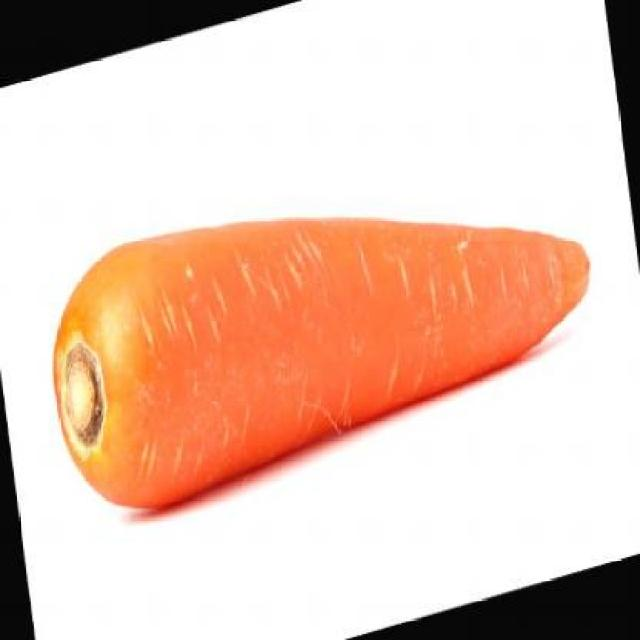carrot: (39, 110, 606, 533)
